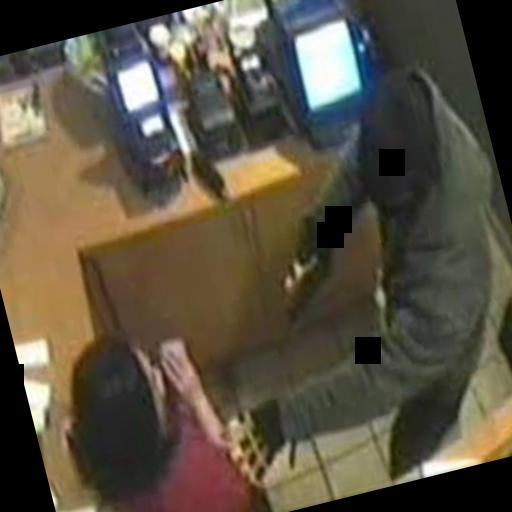Handgun: (258, 212, 353, 318)
